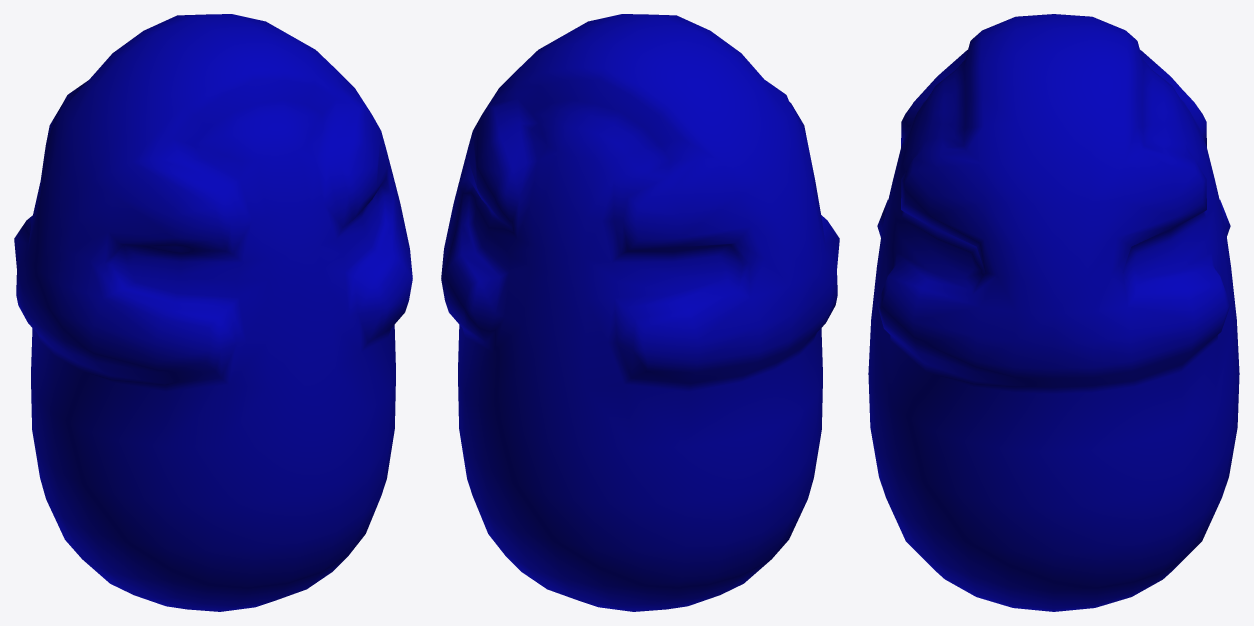
The model's file is blueFruit.fbx.
The picture shows the model from 3 angles, left to right: view 1: azimuth 30°, elevation 25°; view 2: azimuth 150°, elevation 25°; view 3: azimuth 270°, elevation 25°; orthographic projection.
Visible parts, largest first — view 1: BlueFruit; view 2: BlueFruit; view 3: BlueFruit.
Part boxes in pixels (x1,y1,x2,y2): BlueFruit: [14, 14, 412, 611]; BlueFruit: [441, 14, 839, 611]; BlueFruit: [868, 14, 1239, 611].
Size of the model in its own units: 8.42 by 7.72 by 12.91.
